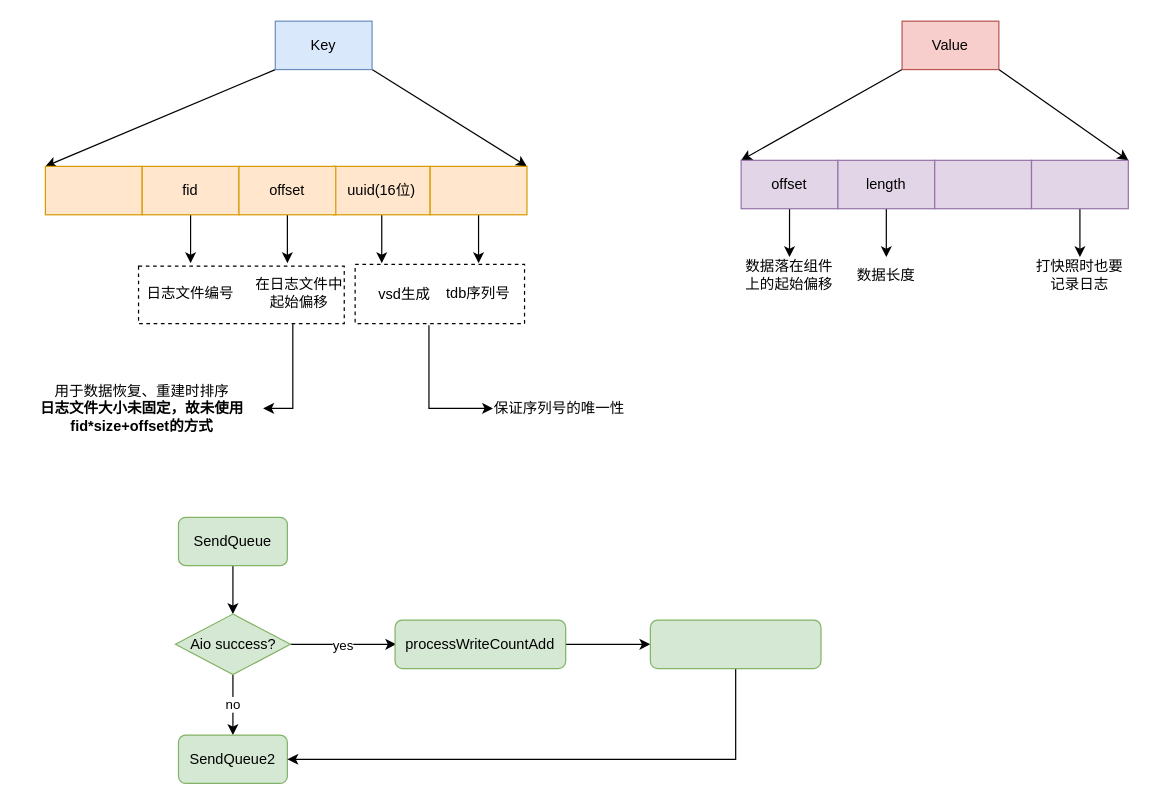
The diagram is 1159 pixels wide and 805 high, and some of its shapes have lost their labels. The centre of each missing label's shape, as x and y in pixels:
"AppendLog" goes at (735,644).
"seq" goes at (478,190).
"快照名" goes at (1079,184).
"提交阶段" goes at (983,184).
"组件名" goes at (93,190).
